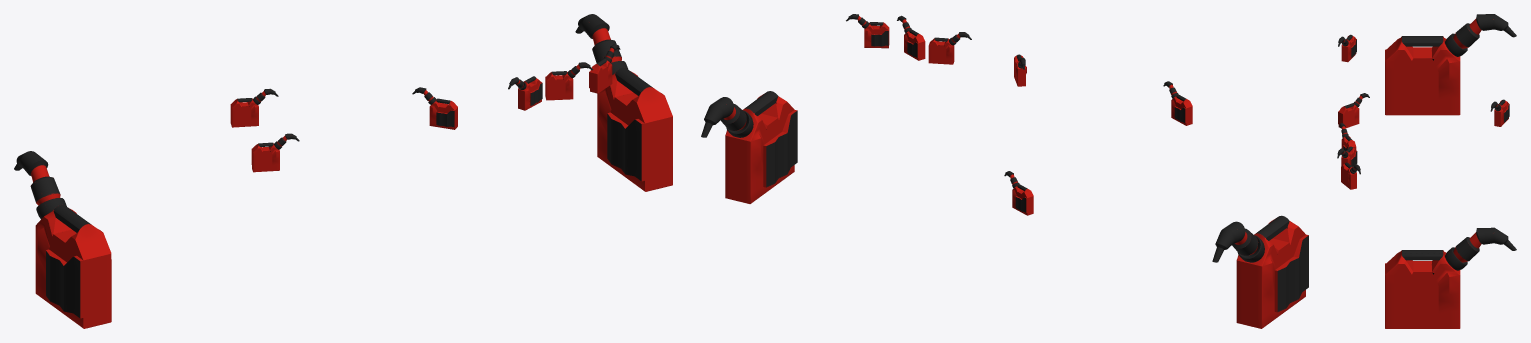
Rendered from kanistry.fbx.
3 renders of one model, left to right at view 1: azimuth 30°, elevation 25°; view 2: azimuth 150°, elevation 25°; view 3: azimuth 270°, elevation 25°, orthographic. The views are drawn at different scales.
Visible parts, largest first — view 1: Canister_Baked.006, Canister_Baked.003, Canister_Baked.007, Canister_Baked.001, Canister_Baked.005, Canister_Baked.004, Canister_Baked, Canister_Baked.002; view 2: Canister_Baked.006, Canister_Baked.003, Canister_Baked.002, Canister_Baked, Canister_Baked.005, Canister_Baked.007, Canister_Baked.001; view 3: Canister_Baked.006, Canister_Baked.003, Canister_Baked.004, Canister_Baked, Canister_Baked.007, Canister_Baked.005, Canister_Baked.001, Canister_Baked.002.
Part boxes in pixels (x1,y1,x2,y2): Canister_Baked.006: [14, 151, 111, 328]; Canister_Baked.003: [575, 14, 672, 191]; Canister_Baked.007: [230, 88, 278, 127]; Canister_Baked.001: [545, 62, 593, 100]; Canister_Baked.005: [251, 133, 299, 172]; Canister_Baked.004: [412, 87, 457, 129]; Canister_Baked: [589, 44, 620, 93]; Canister_Baked.002: [508, 76, 542, 110]; Canister_Baked.006: [1212, 215, 1308, 328]; Canister_Baked.003: [701, 91, 797, 203]; Canister_Baked.002: [928, 32, 971, 64]; Canister_Baked: [846, 14, 889, 48]; Canister_Baked.005: [1163, 81, 1192, 125]; Canister_Baked.007: [1004, 171, 1033, 215]; Canister_Baked.001: [897, 15, 925, 60]; Canister_Baked.006: [1385, 14, 1516, 115]; Canister_Baked.003: [1385, 227, 1516, 328]; Canister_Baked.004: [1338, 93, 1369, 128]; Canister_Baked: [1341, 162, 1360, 189]; Canister_Baked.007: [1490, 99, 1509, 126]; Canister_Baked.005: [1338, 34, 1356, 62]; Canister_Baked.001: [1337, 146, 1357, 166]; Canister_Baked.002: [1339, 123, 1356, 150].
Size of the model in its own units: 2030 by 557 by 675.
1 material, 1 textured.
